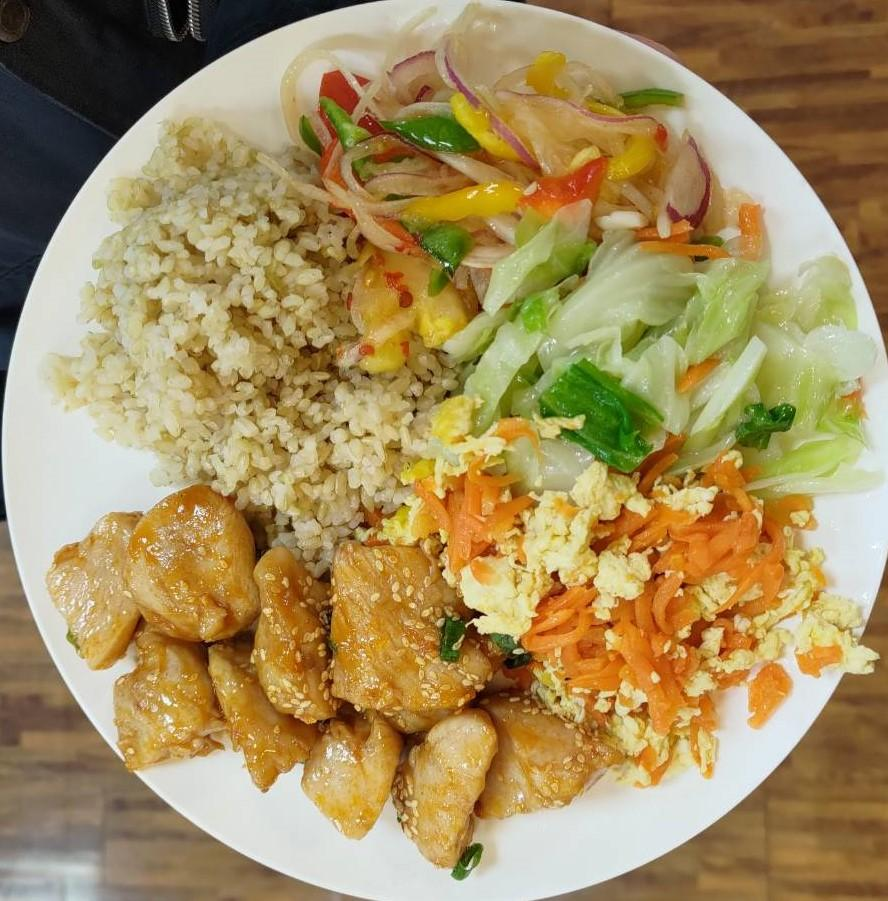big fried chicken leg: (4, 4, 888, 901)
box: (46, 110, 432, 553)
braised fish fillet: (426, 446, 877, 783), (475, 228, 877, 474), (288, 22, 722, 249)
braised pork: (44, 488, 608, 866)
